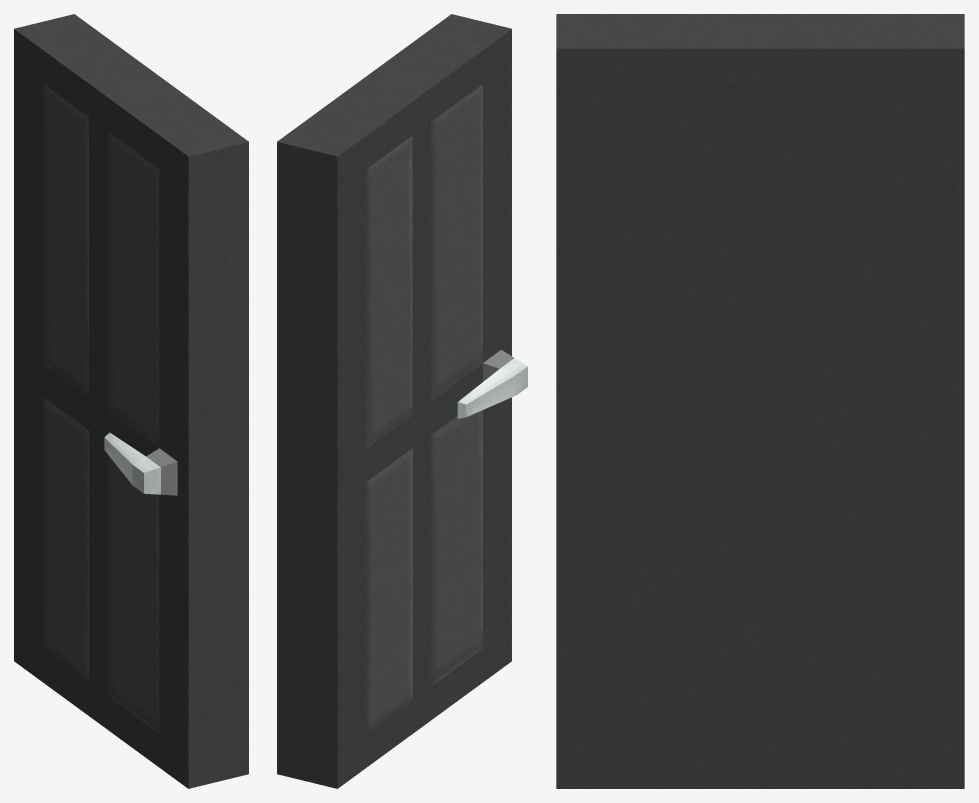
The model's file is Door.fbx.
The picture shows the model from 3 angles, left to right: view 1: azimuth 30°, elevation 25°; view 2: azimuth 150°, elevation 25°; view 3: azimuth 270°, elevation 25°; orthographic projection. The views are drawn at different scales.
Visible parts, largest first — view 1: Box001; view 2: Box001; view 3: Box001.
Boxes of the visible parts, bbox=[...] form: Box001: bbox=[14, 14, 248, 788]; Box001: bbox=[277, 14, 527, 788]; Box001: bbox=[556, 14, 964, 788].
Bounding box in the file's own units: 0.3 × 2 × 1.
